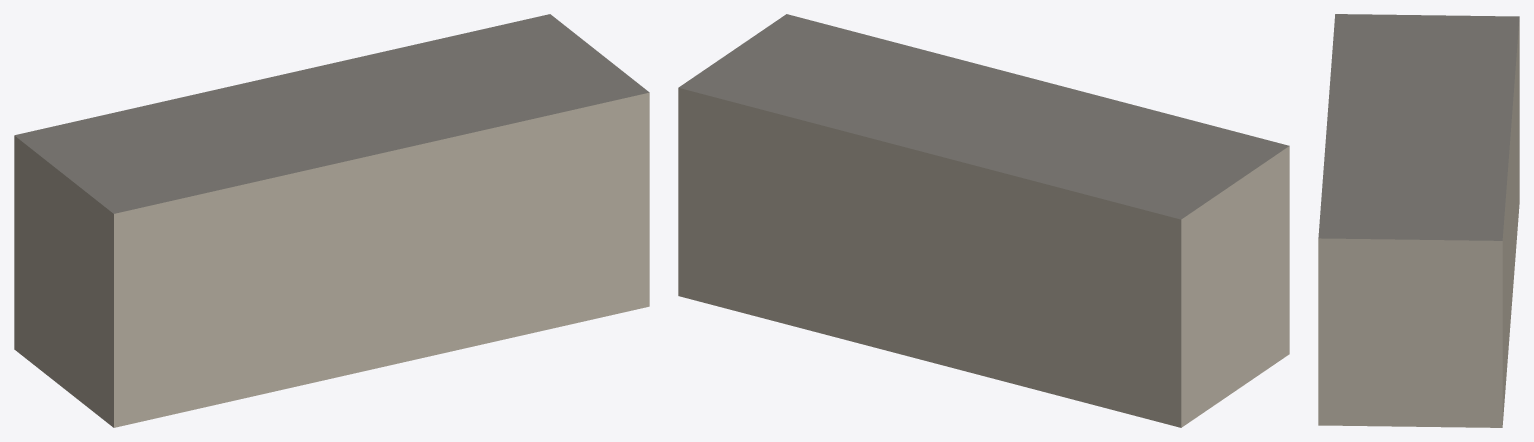
The picture shows the model from 3 angles, left to right: view 1: azimuth 30°, elevation 25°; view 2: azimuth 150°, elevation 25°; view 3: azimuth 270°, elevation 25°; orthographic projection. The views are drawn at different scales.
Parts seen in each view (by area): view 1: HP-w859488917; view 2: HP-w859488917; view 3: HP-w859488917.
Part boxes in pixels (x1,y1,x2,y2): HP-w859488917: (14,14,649,427); HP-w859488917: (678,14,1289,427); HP-w859488917: (1318,14,1519,427).
Bounding box in the file's own units: 31.22 × 12 × 11.7.
